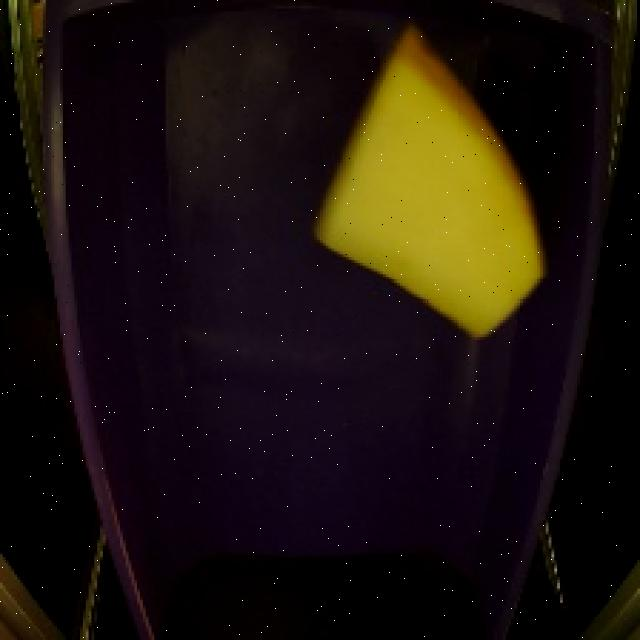potato: (304, 23, 561, 351)
